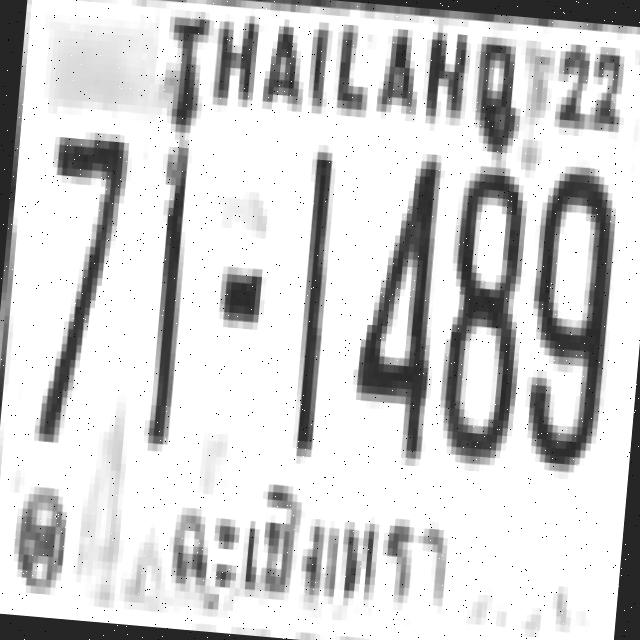1: (138, 138, 194, 444), (284, 144, 336, 442)
4: (346, 145, 447, 455)
7: (29, 128, 124, 438), (31, 125, 125, 412), (38, 125, 125, 336)
8: (430, 156, 530, 458)
9: (514, 156, 620, 467)
Chachoengsao: (149, 458, 462, 622)
